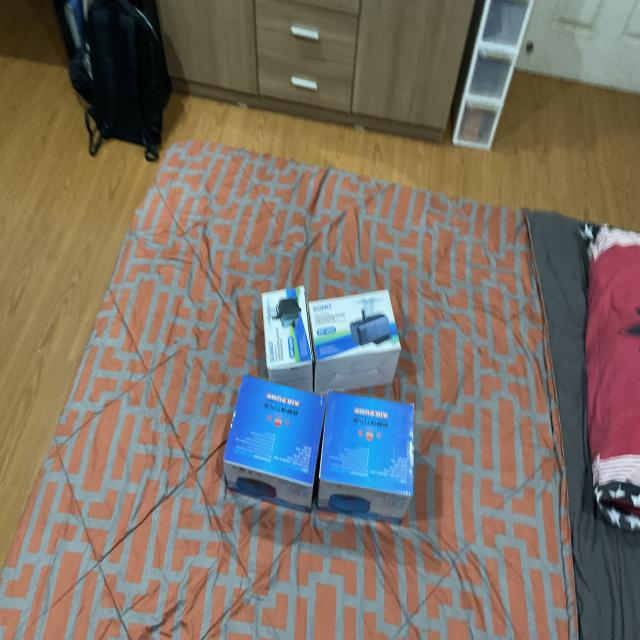SOBO_WP_4200: (312, 270, 410, 396), (241, 264, 315, 386)
YAMANO_LPP_20: (322, 378, 428, 547), (222, 365, 327, 531)
